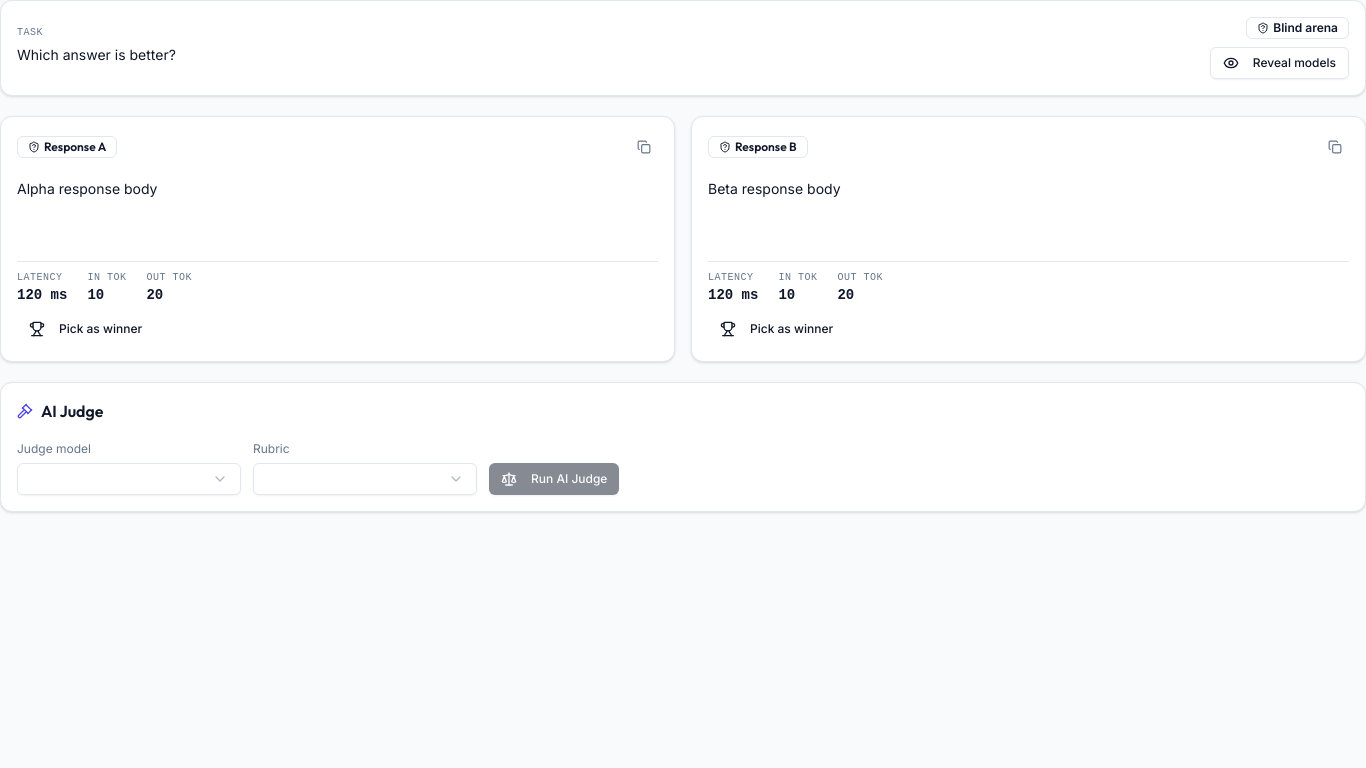
Test case: revealing models persists via POST and shows identities after refetch
This screenshot has width=1366, height=768.
Expected: the text "Response A" is shown, [17, 136, 117, 158]
Click the button with test id "arena-reveal" at (1279, 63), box [1210, 47, 1349, 79]
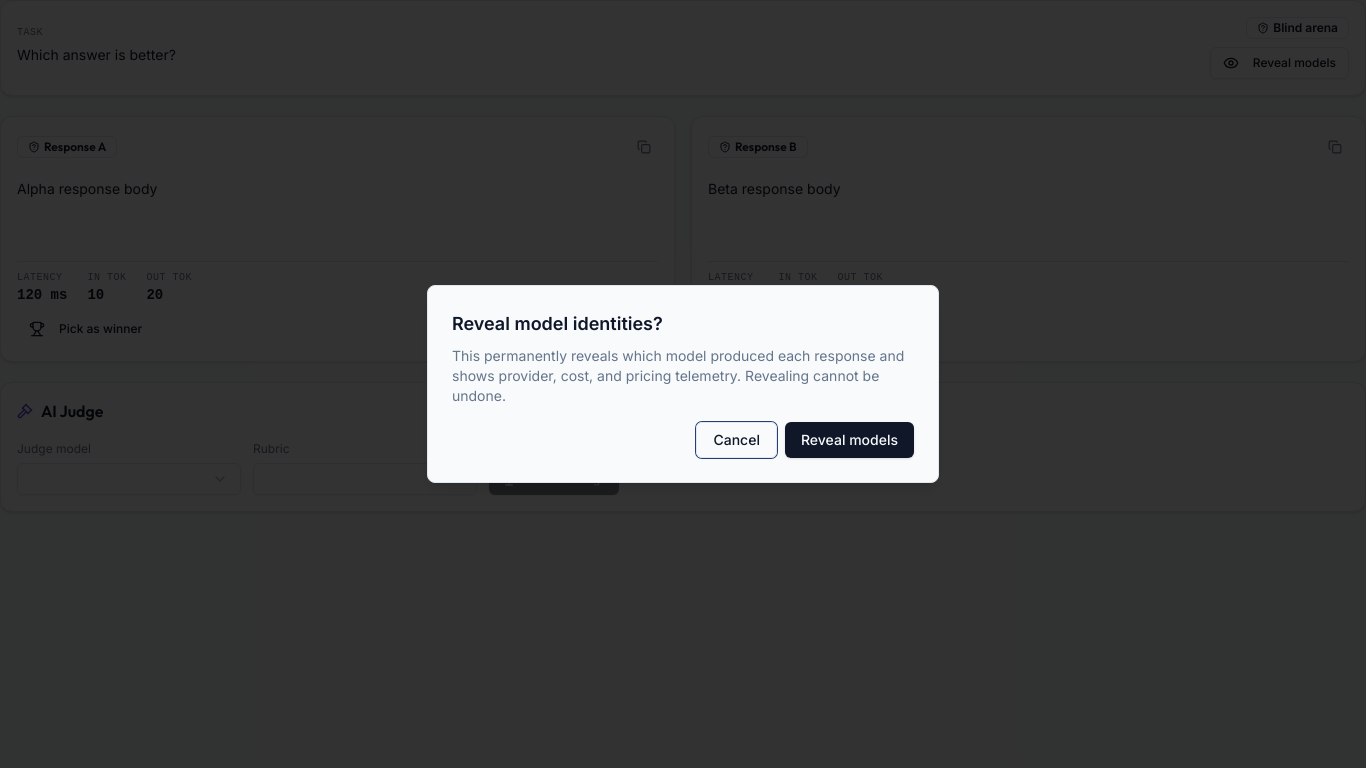
Result: the heading "Reveal model identities?" is shown at [452, 313, 663, 334]
Click the button with test id "arena-reveal-confirm" at (850, 440), box [785, 422, 914, 458]
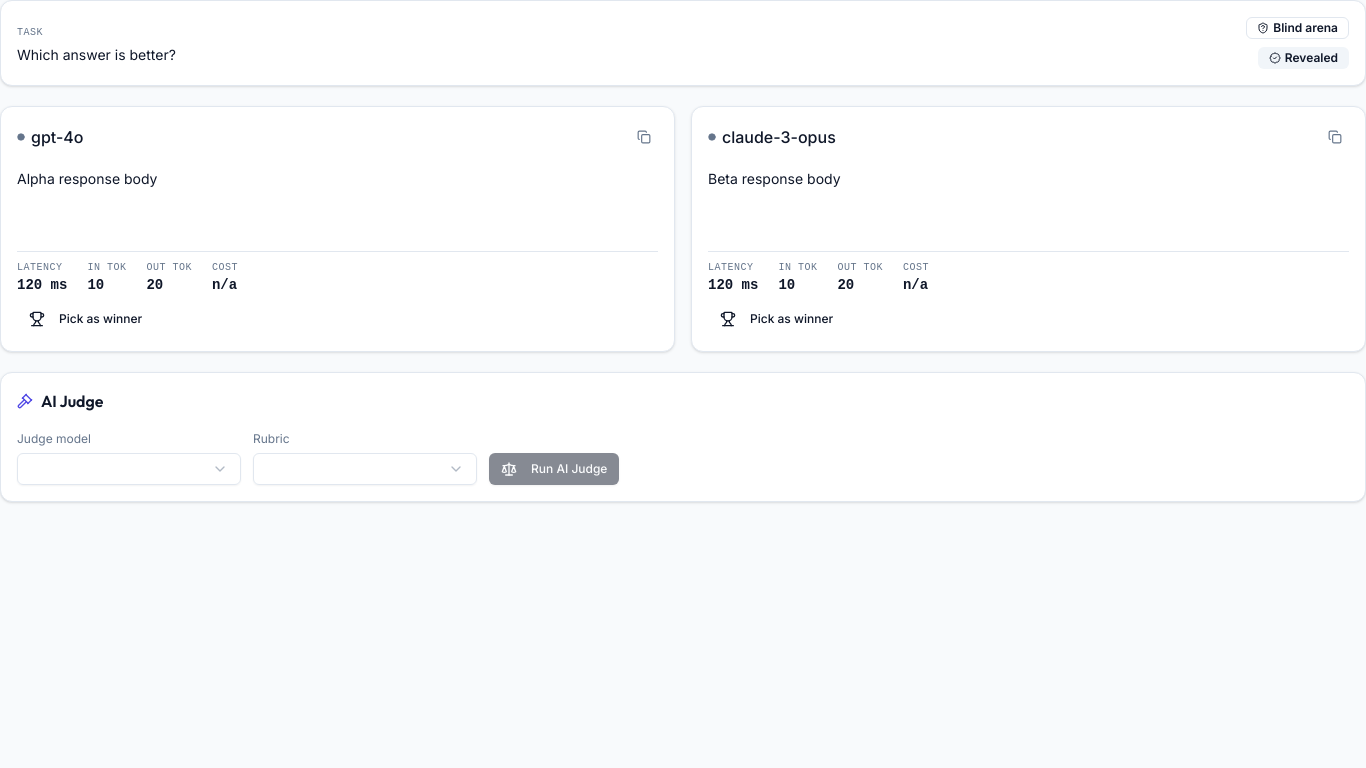
Result: the text "gpt-4o" is shown at [17, 125, 84, 149]
Result: the text "claude-3-opus" is shown at [708, 125, 836, 149]
Result: the text "Response A" is gone
